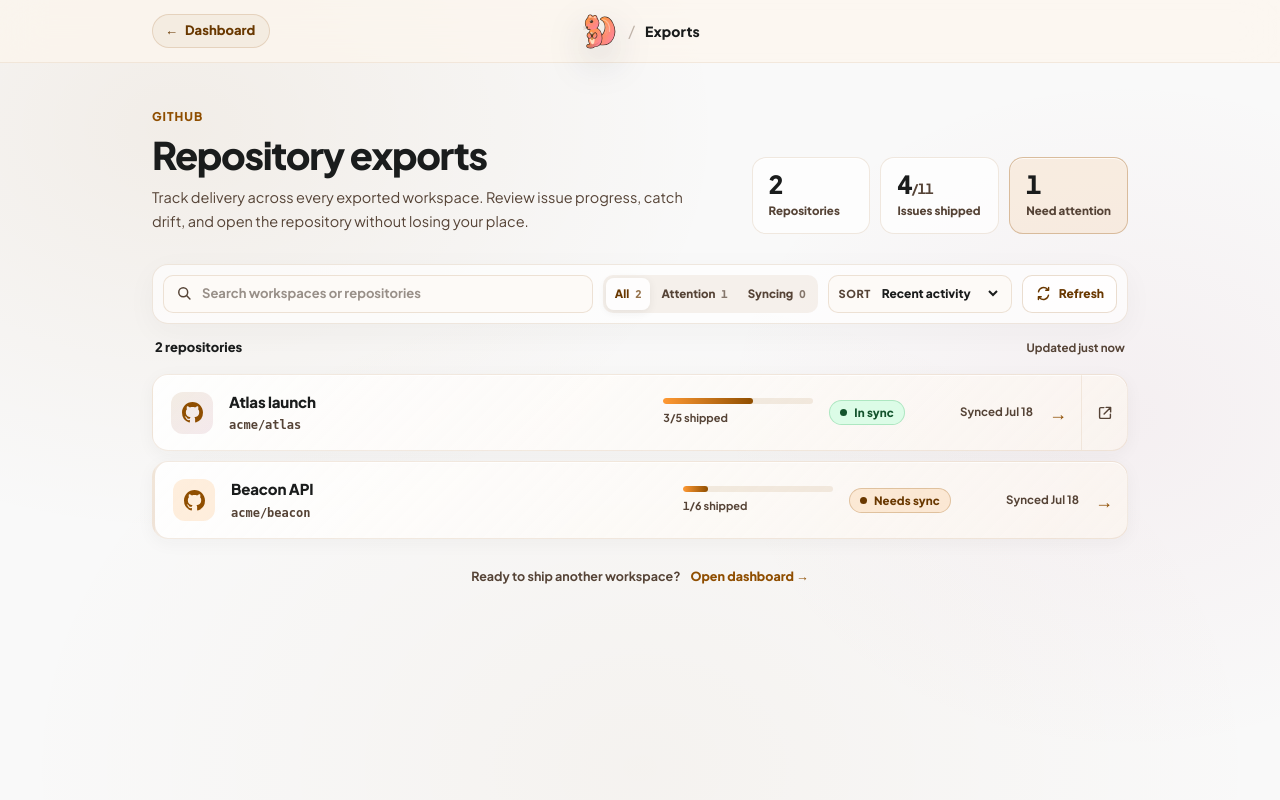
Scenario: GitHubHub › refreshes in place without discarding the current rows
Expected: the text "Atlas launch" is shown, [229,392,316,411]
Click the button with aria-label "Refresh repositories" at (1069, 294), box [1022,275,1117,313]
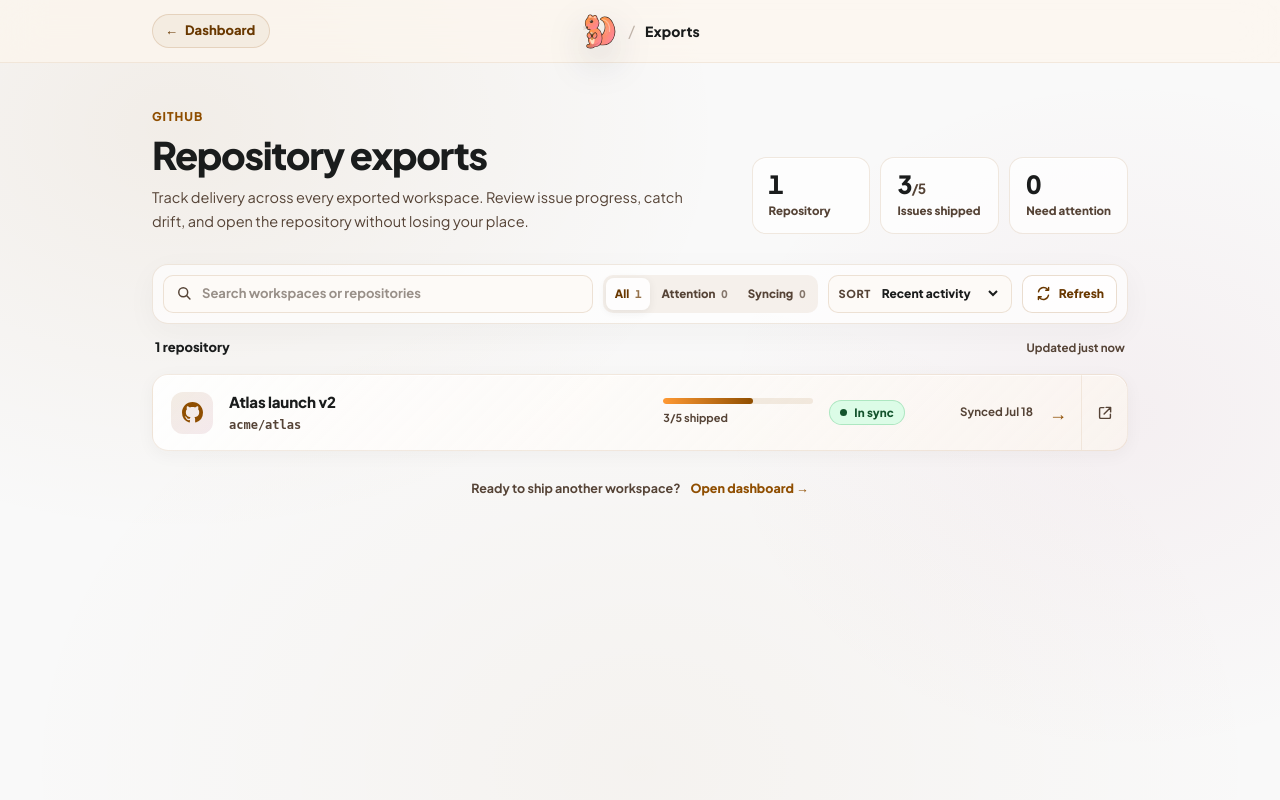
Expected: the text "Atlas launch v2" is shown, [229,392,336,411]
